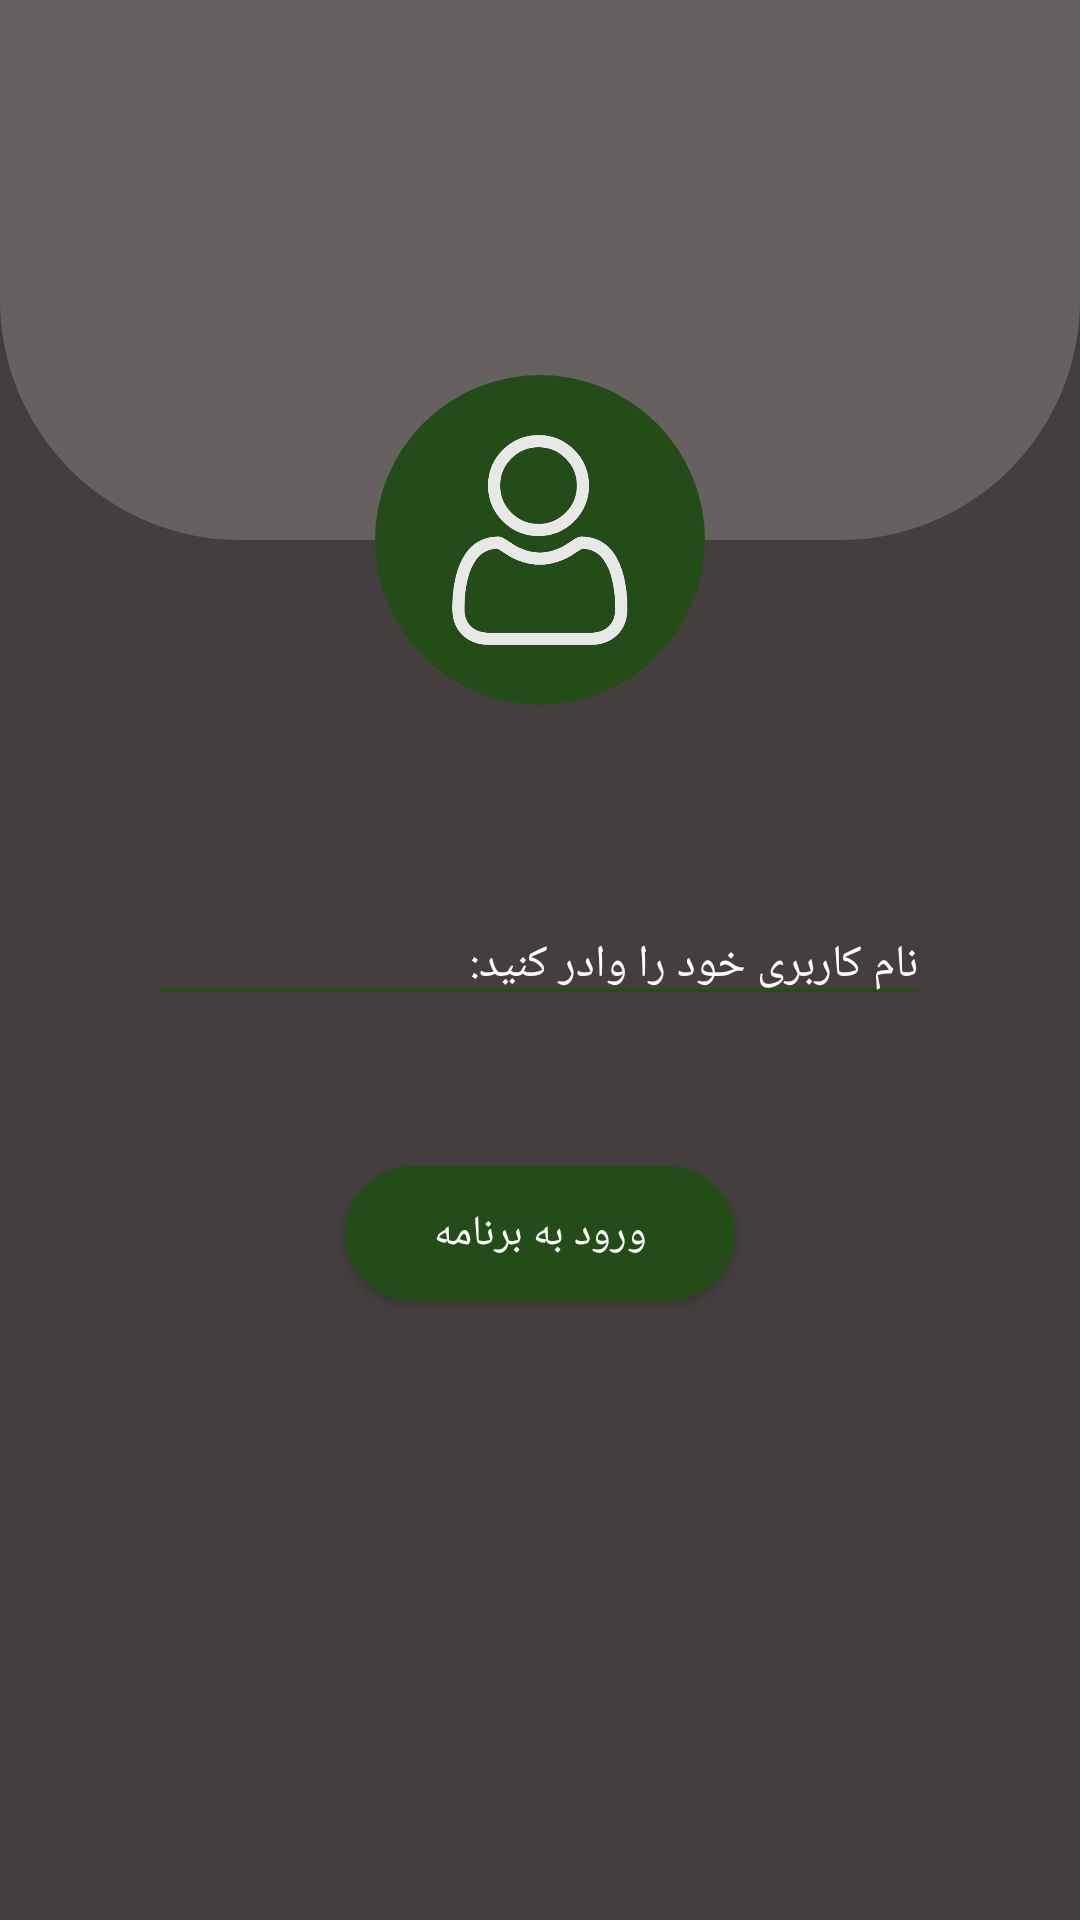

Screen size 1080x1920. Icon name, then its center in pixels as (x=x, y=y):
user: (x=540, y=540)
